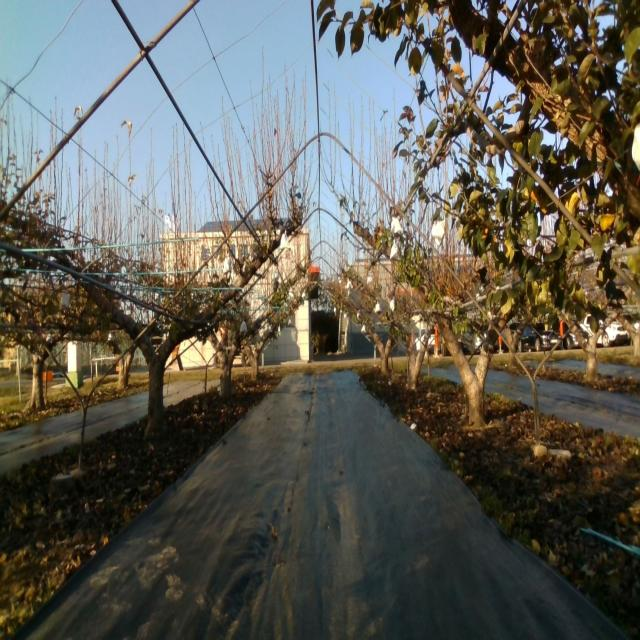pearbags: (431, 218, 446, 249), (390, 241, 401, 262), (224, 252, 234, 274), (280, 230, 290, 249)
